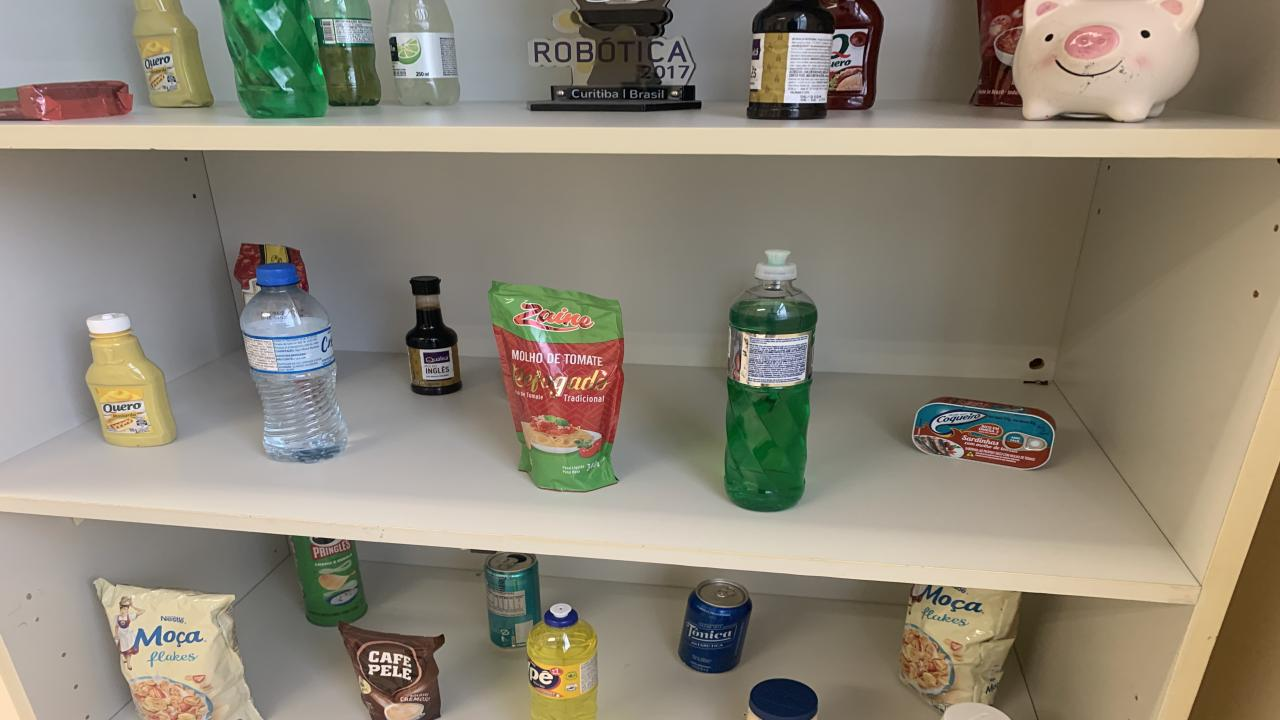Cleaner-Cleanup_Items: (942, 703, 1010, 720)
Coffee-Pantry_Items: (338, 622, 445, 720)
Detergent-Cleanup_Items: (725, 251, 818, 512), (220, 0, 328, 118), (528, 604, 598, 720)
English_Sauce-Pantry_Items: (748, 0, 835, 118), (405, 276, 462, 396)
Flakes-Snacks: (95, 578, 260, 720), (900, 585, 1020, 711)
Guarana-Drinks: (310, 0, 380, 105)
Guava-Snacks: (0, 81, 132, 120)
Ketchup-Pantry_Items: (820, 0, 882, 109)
Mayonnaise-Pantry_Items: (748, 679, 818, 720)
Mustard-Pantry_Items: (85, 313, 178, 446), (132, 0, 212, 107)
Pig_Safe-Miscellaneous: (1012, 0, 1205, 122)
Pringles-Snacks: (290, 536, 368, 626)
Soda-Drinks: (388, 0, 460, 105)
Tea-Drinks: (485, 551, 542, 649)
Tomato_Sauce-Pantry_Items: (490, 281, 625, 491), (970, 0, 1025, 107), (232, 244, 310, 302)
Tonic-Drinks: (678, 579, 752, 673)
Trophy-Miscellaneous: (528, 0, 700, 111)
Tuna_Can-Pantry_Items: (912, 398, 1055, 469)
Water_Bottle-Drinks: (240, 264, 348, 463)
